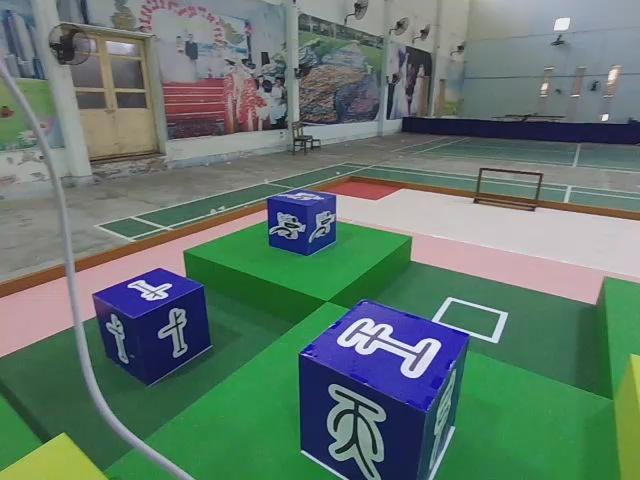R1 Blue: (266, 190, 339, 257)
R2 Fake Blue: (296, 293, 473, 480)
R2 Real Blue: (92, 270, 211, 388)
